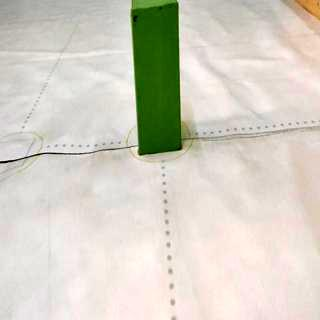greenbox: (128, 0, 185, 156)
